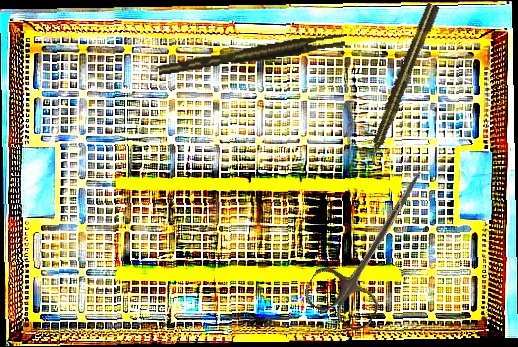Handpiece: (362, 2, 442, 165)
Iris Scissors: (299, 151, 449, 336)
Tissue Forceps: (157, 33, 346, 75)
